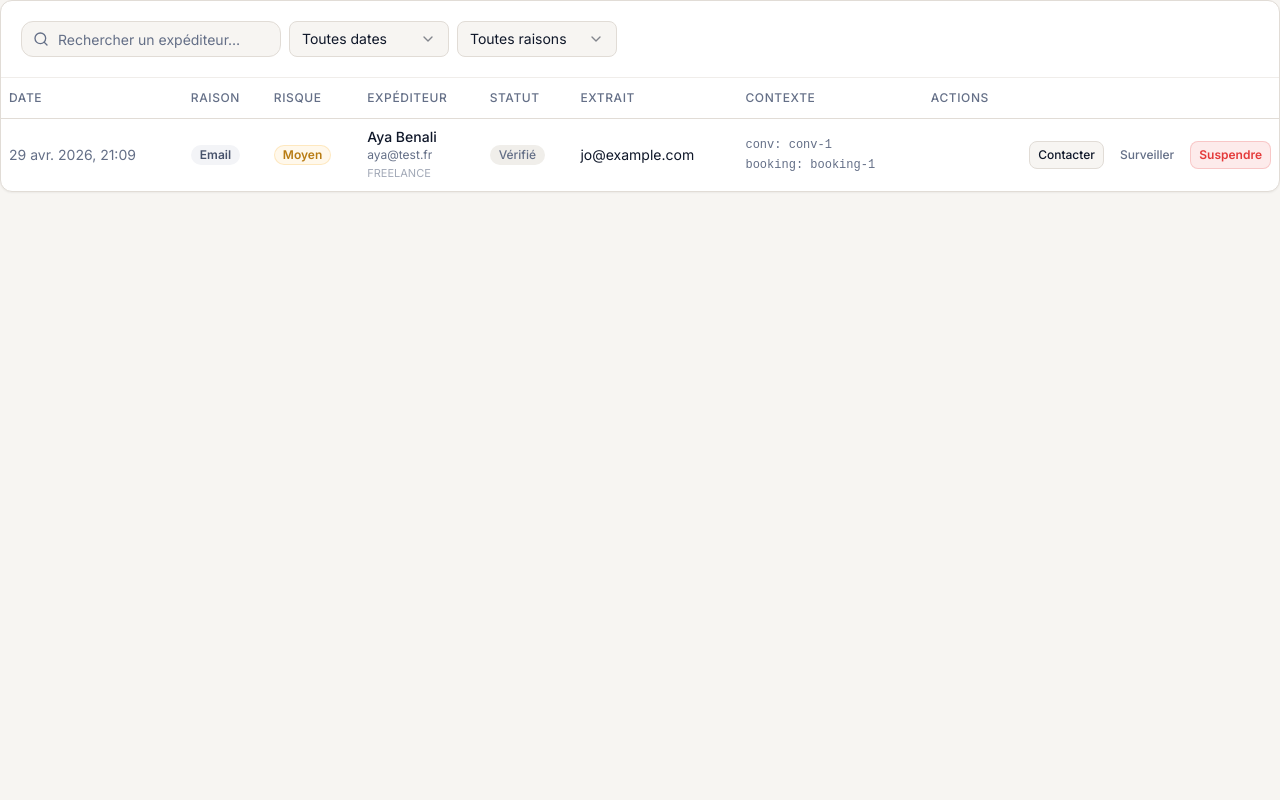
it: ContactBypassEventsTable › active l'envoi avec un message de 5 caractères ou plus
The width and height of the screenshot is (1280, 800).
Click the button "Contacter": click(1066, 154) [1029, 140, 1104, 168]
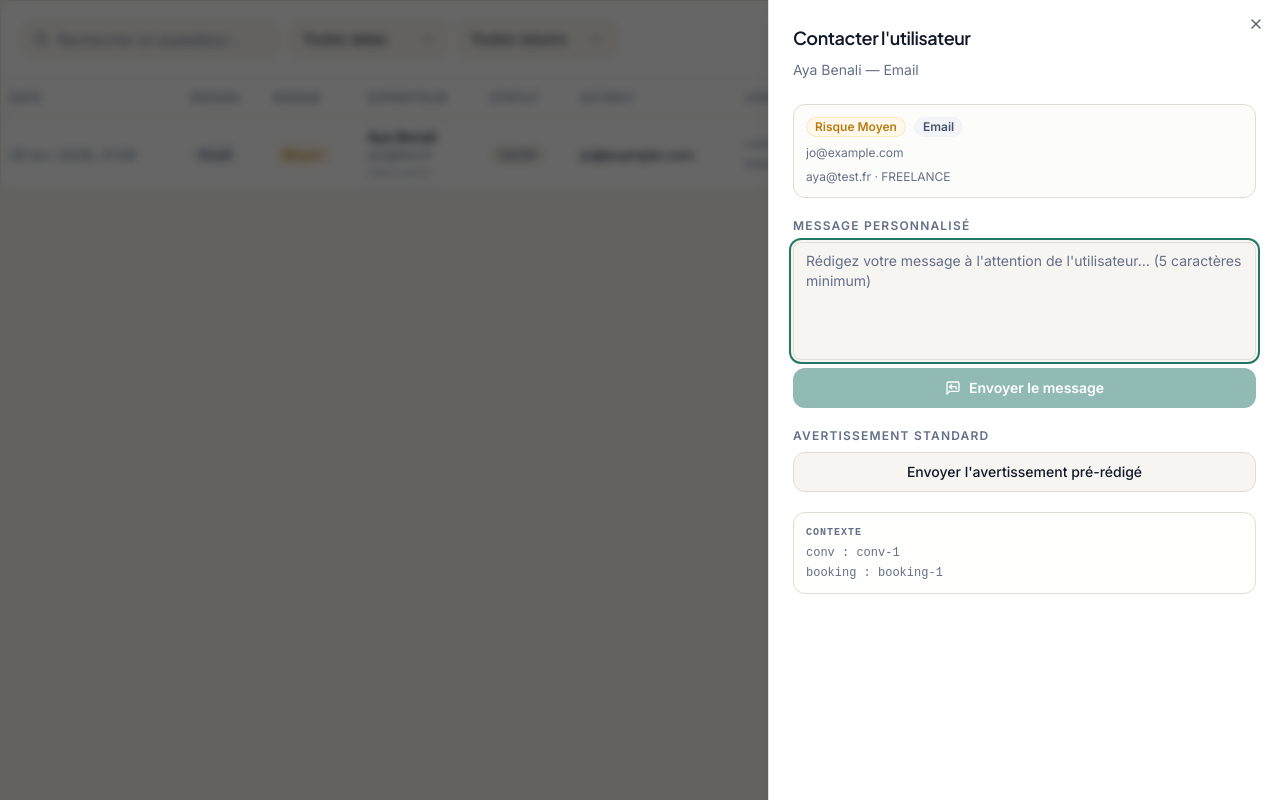
Replace the text in the text box with placeholder "5 caractères minimum" with "Message de test suffisant": (1024, 301) [793, 242, 1256, 360]
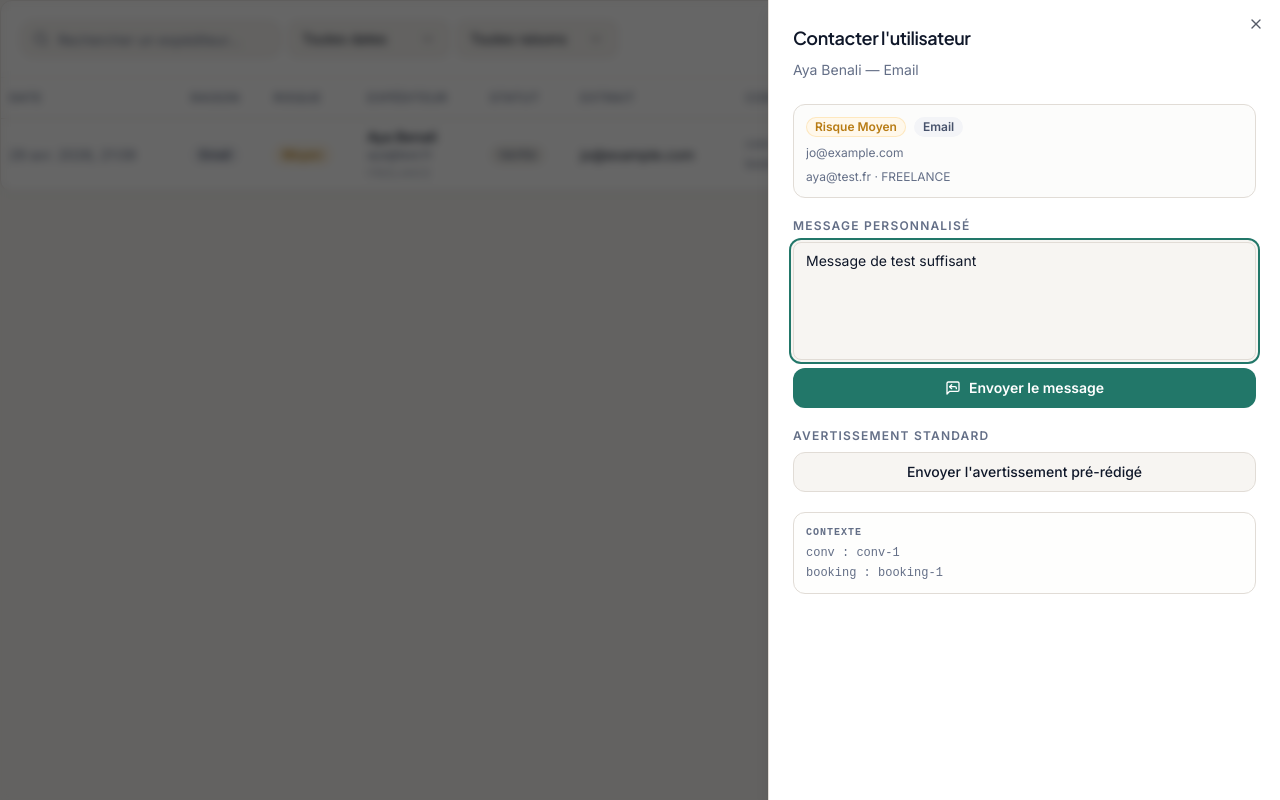
expect the button "Envoyer le message" is enabled: met, box [793, 368, 1256, 408]
